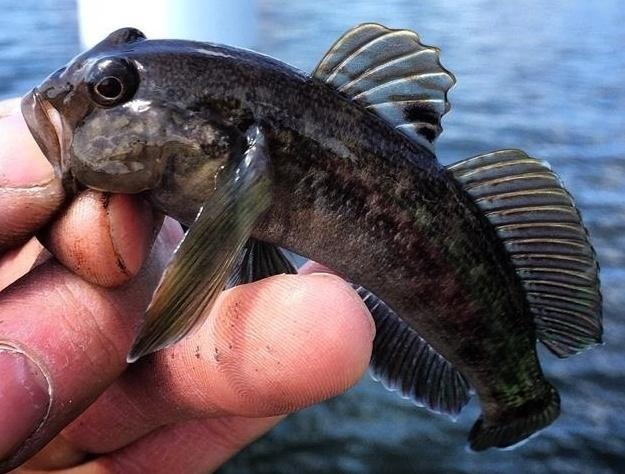Goby: (33, 21, 609, 456)
